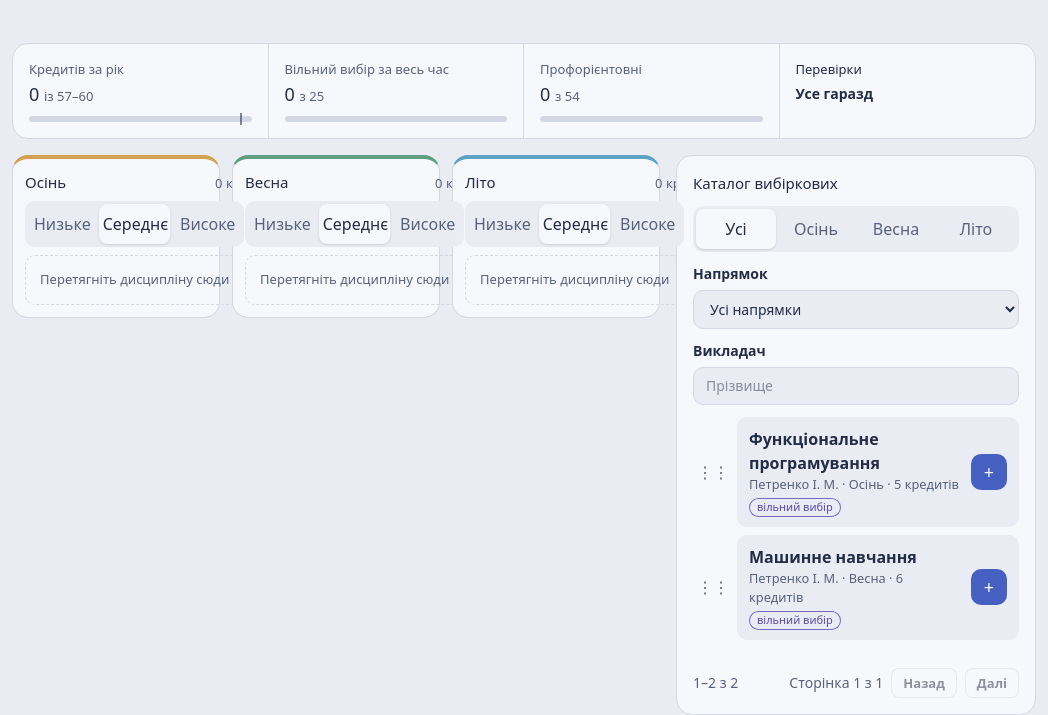
BuilderPage: додавання › «+» кладе дисципліну в колонку її триместру
The width and height of the screenshot is (1048, 715).
Click the button named "Додати Машинне навчання".
click(989, 587)  # box [971,569,1007,605]
(page scrolled)
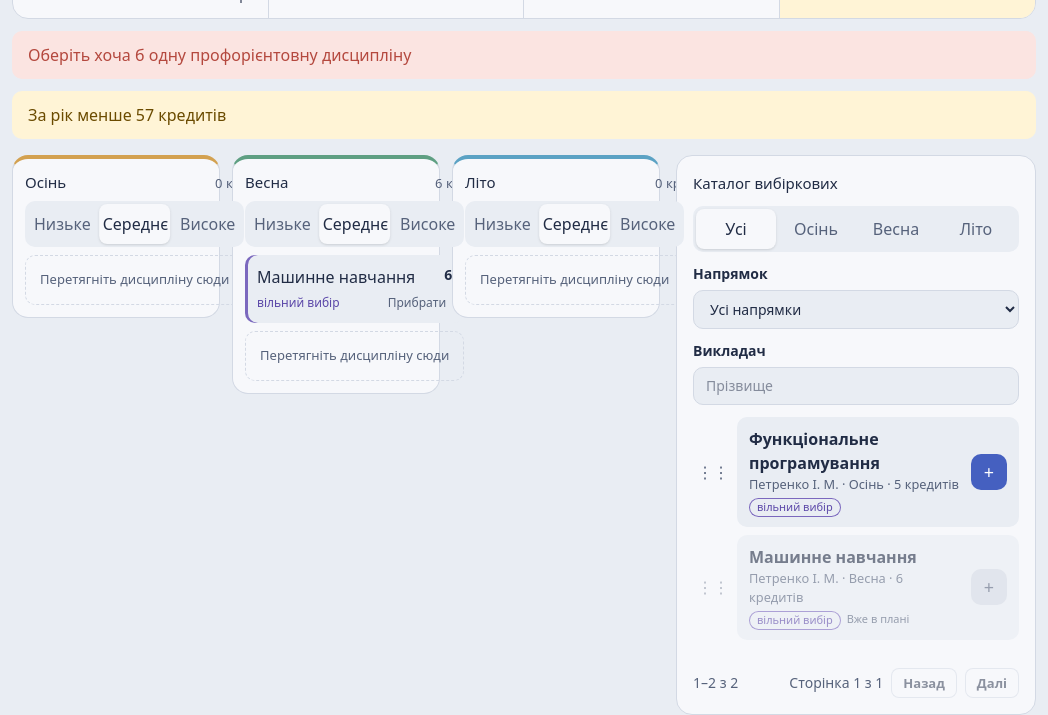
Check: the 1st text "Машинне навчання" is shown, box [257,265,415,289]
Check: the button named "Додати Машинне навчання" is disabled, box [971,569,1007,605]
